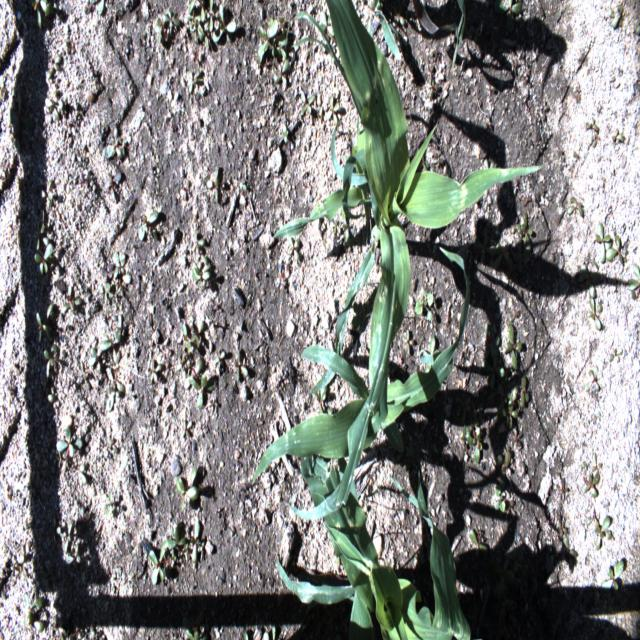crop: (272, 0, 550, 361), (237, 244, 473, 522), (273, 461, 473, 639), (373, 5, 402, 61), (452, 1, 469, 69), (410, 6, 445, 34)
weed: (200, 0, 238, 48), (180, 517, 215, 565), (559, 514, 593, 554), (144, 539, 172, 584), (461, 418, 486, 464), (175, 461, 200, 506), (154, 5, 184, 40), (504, 322, 524, 373), (257, 16, 277, 66), (56, 424, 83, 461), (179, 332, 202, 372), (108, 368, 128, 411), (24, 592, 45, 632), (186, 371, 208, 409), (32, 239, 56, 273), (20, 552, 43, 587), (594, 223, 613, 265), (107, 125, 131, 158), (590, 515, 614, 548), (55, 518, 79, 550), (135, 207, 158, 239), (468, 523, 490, 556), (64, 282, 86, 314), (580, 464, 602, 496), (30, 220, 48, 259), (502, 396, 523, 429), (605, 557, 626, 590), (268, 60, 291, 90), (515, 212, 534, 248), (66, 538, 91, 565), (205, 167, 224, 202), (497, 448, 519, 478), (115, 312, 132, 350), (410, 292, 433, 320), (516, 372, 534, 407), (325, 95, 344, 126), (44, 90, 65, 118), (89, 339, 104, 378), (420, 336, 436, 372), (498, 0, 522, 24), (494, 487, 514, 515), (190, 256, 211, 282), (587, 287, 600, 329), (102, 491, 120, 519), (186, 17, 206, 42), (586, 363, 603, 392), (33, 3, 51, 30), (234, 348, 249, 380), (614, 231, 628, 265), (84, 0, 110, 18), (112, 250, 128, 279), (299, 89, 317, 114), (45, 341, 57, 378), (98, 269, 111, 302), (36, 312, 48, 344), (41, 177, 54, 206), (586, 119, 601, 144), (186, 66, 199, 92), (20, 537, 32, 565), (191, 231, 205, 254), (571, 194, 585, 217), (613, 123, 626, 145), (149, 359, 163, 379), (185, 627, 212, 636), (48, 383, 59, 402), (278, 121, 287, 143)
